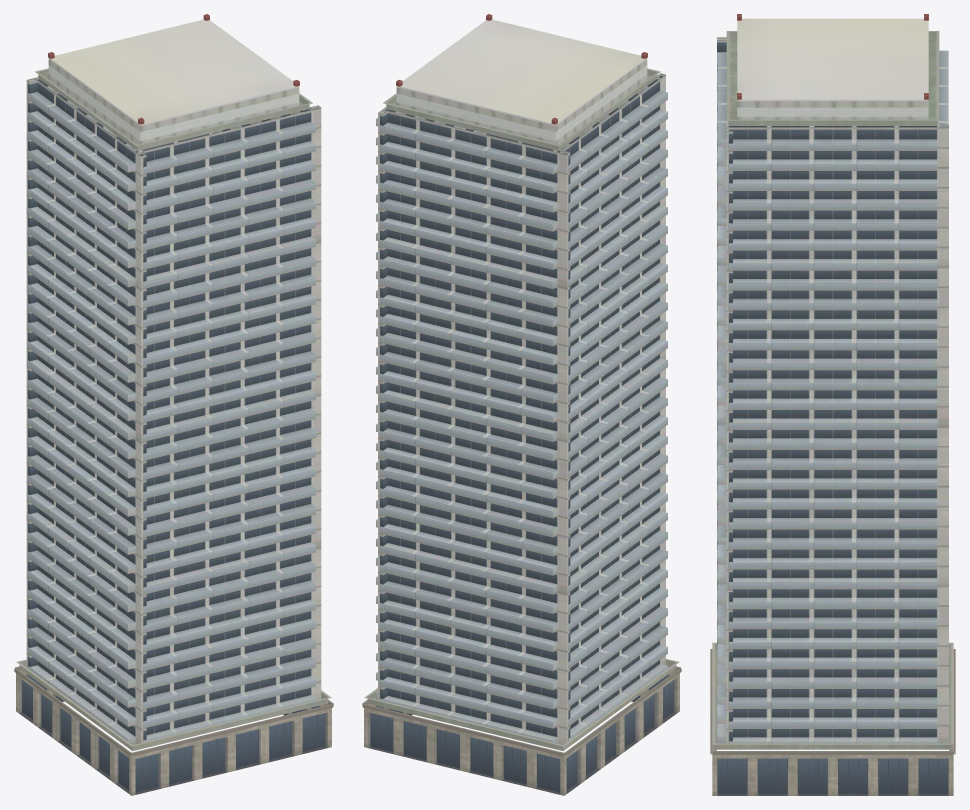
Rendered from tokyo_glassslab_c.glb.
3 views of the same model, side by side, from view 1: azimuth 30°, elevation 25°; view 2: azimuth 150°, elevation 25°; view 3: azimuth 270°, elevation 25° (orthographic). The views are drawn at different scales.
Visible parts, largest first — view 1: tokyo_glassslab_c; view 2: tokyo_glassslab_c; view 3: tokyo_glassslab_c.
Boxes of the visible parts, <box> form: tokyo_glassslab_c: <box>14,14,333,795</box>; tokyo_glassslab_c: <box>362,14,681,795</box>; tokyo_glassslab_c: <box>710,14,955,795</box>.
Bounding box in the file's own units: 34.6 × 107 × 34.6.
Materials: 1 (1 with a texture image).
